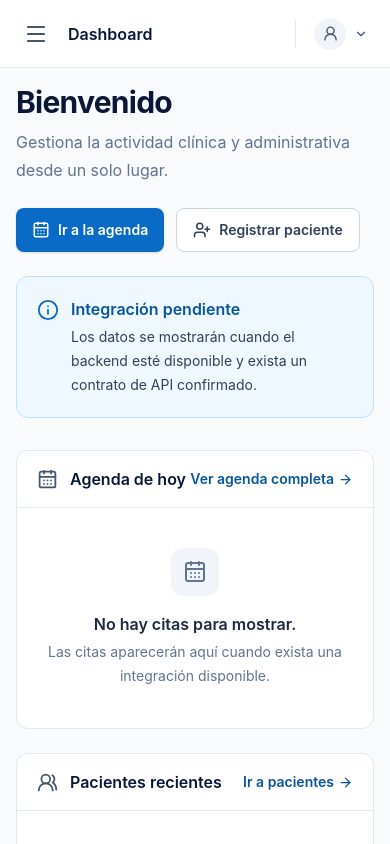
it: AppRouter › opens and closes the mobile navigation with Escape
This screenshot has width=390, height=844.
Click the button named "Abrir menú": (36, 34) [16,14,56,54]
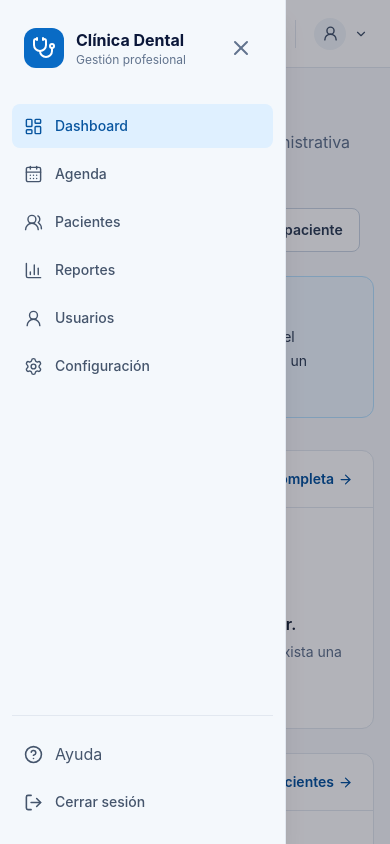
Expected: the button named "Abrir menú" is expanded, [16,14,56,54]
Expected: the button named "Cerrar menú" is shown, [221,28,261,68]
Press Escape
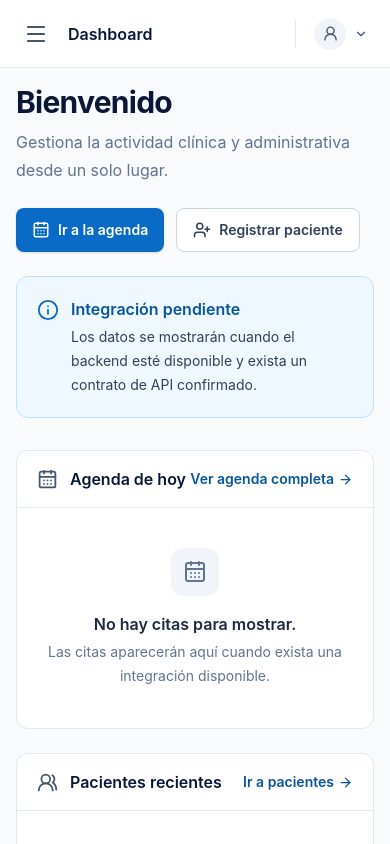
Expected: the button named "Abrir menú" is collapsed, [16,14,56,54]
